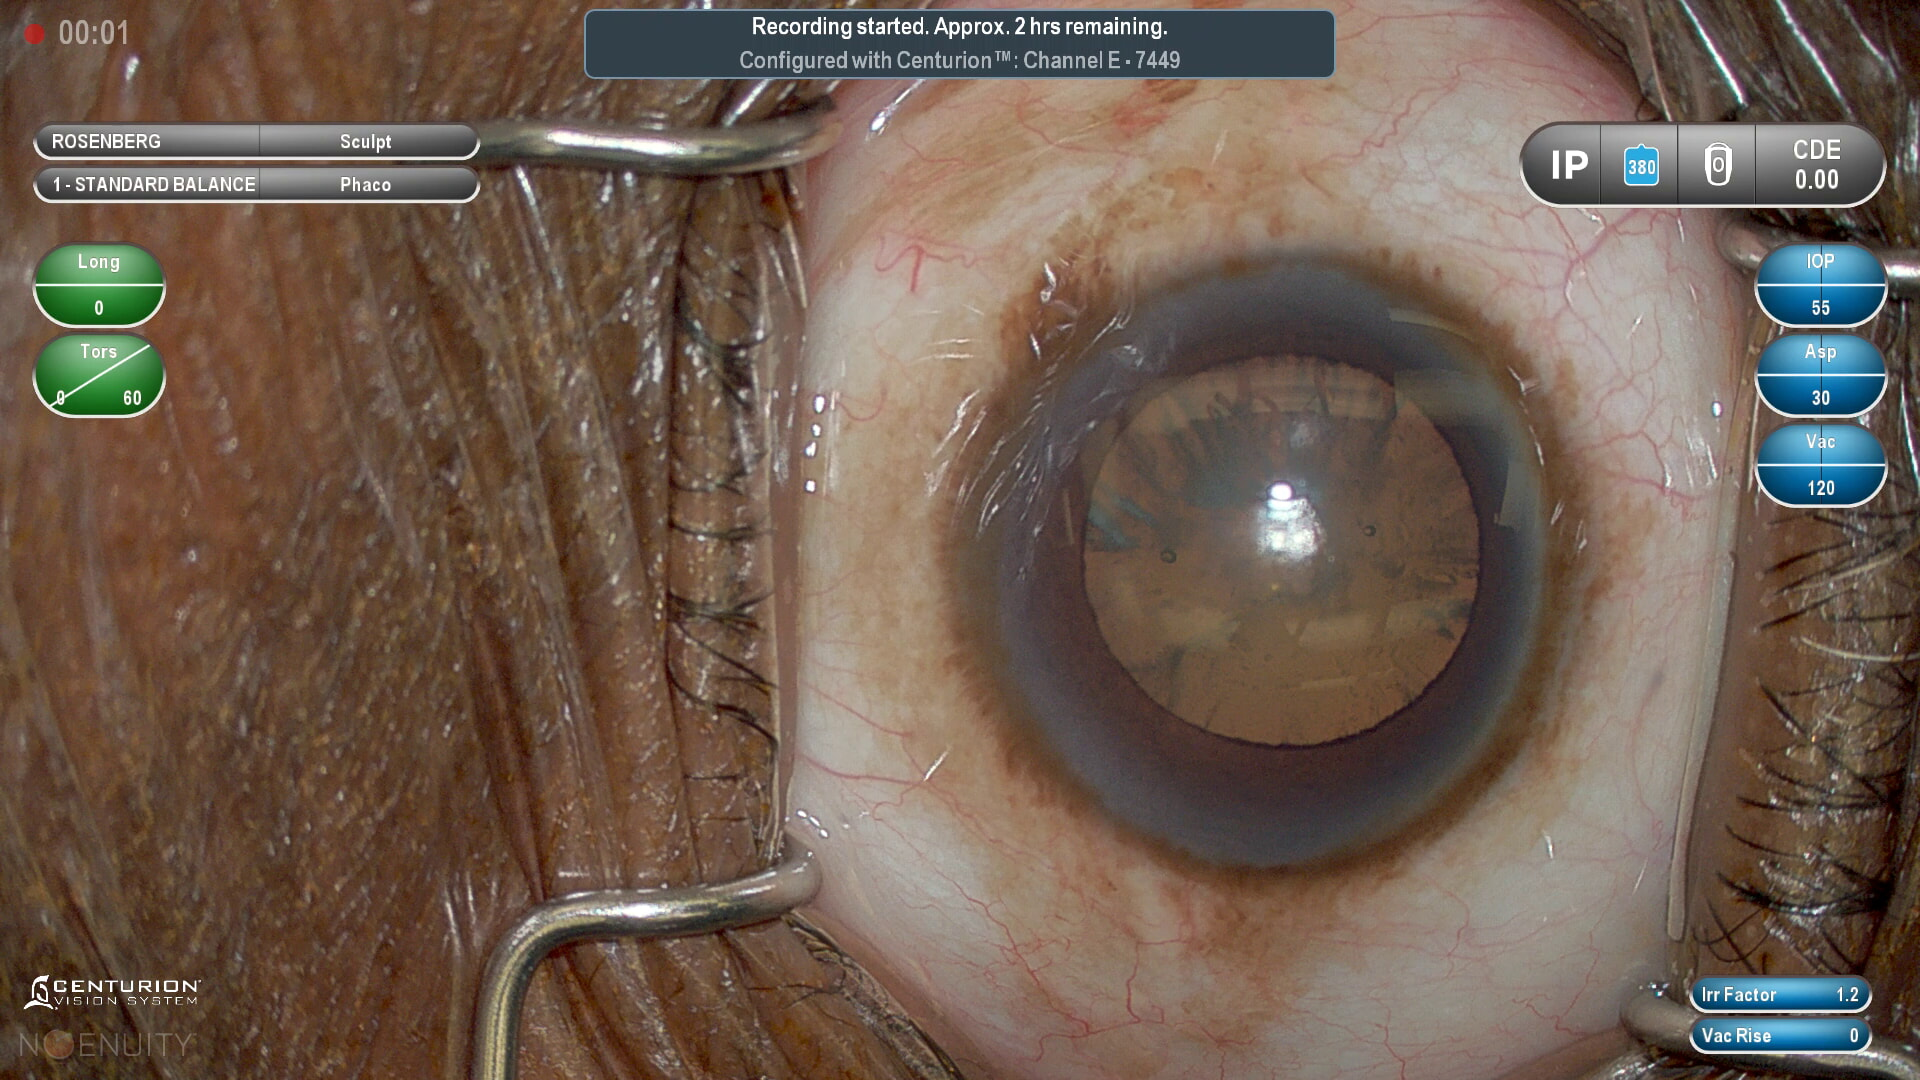iris: (994, 273, 1545, 867)
pupil: (1086, 353, 1483, 753)
